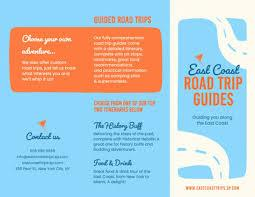paper: (0, 1, 255, 196)
